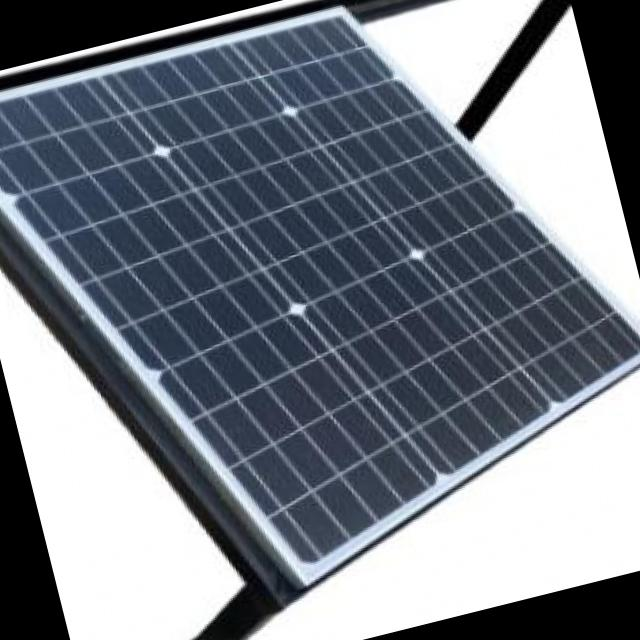no faulty: (0, 10, 640, 558)
